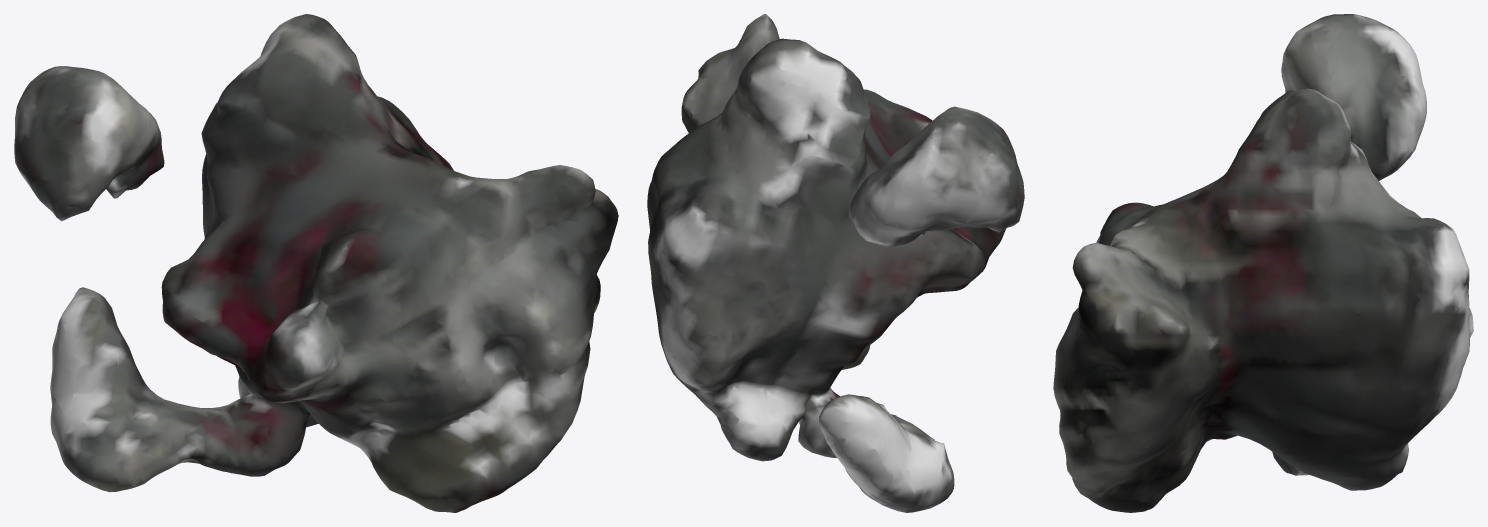
Rendered from elephant.glb.
3 renders of one model, left to right at view 1: azimuth 30°, elevation 25°; view 2: azimuth 150°, elevation 25°; view 3: azimuth 270°, elevation 25°, orthographic. The views are drawn at different scales.
Bounding box in the file's own units: 1 × 0.906 × 0.8514.
